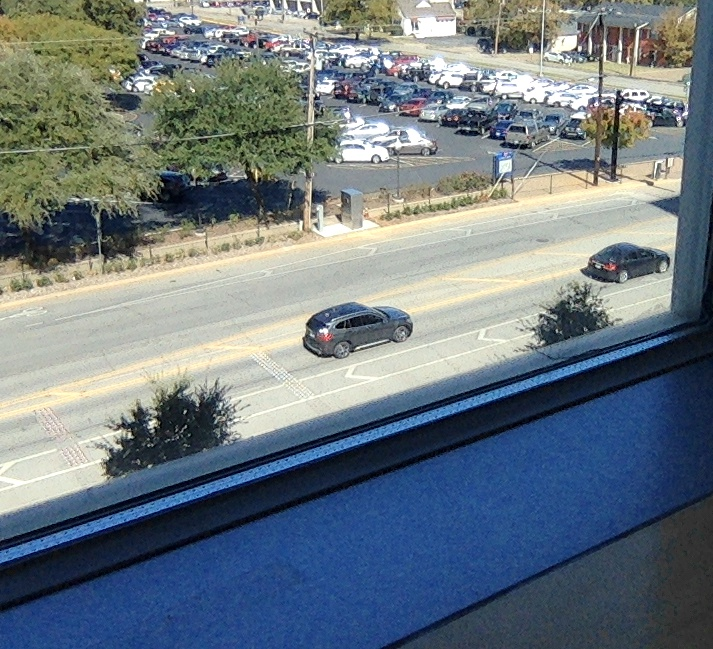car: (300, 300, 413, 360)
